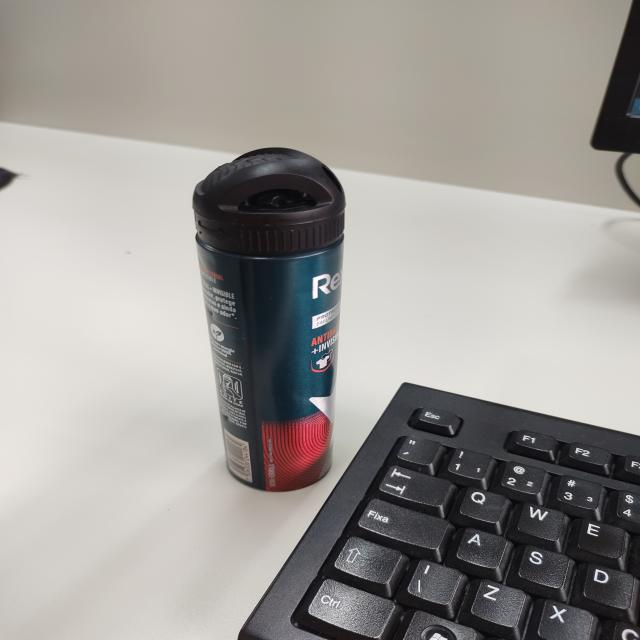Desodorante Azul: (193, 147, 345, 492)
